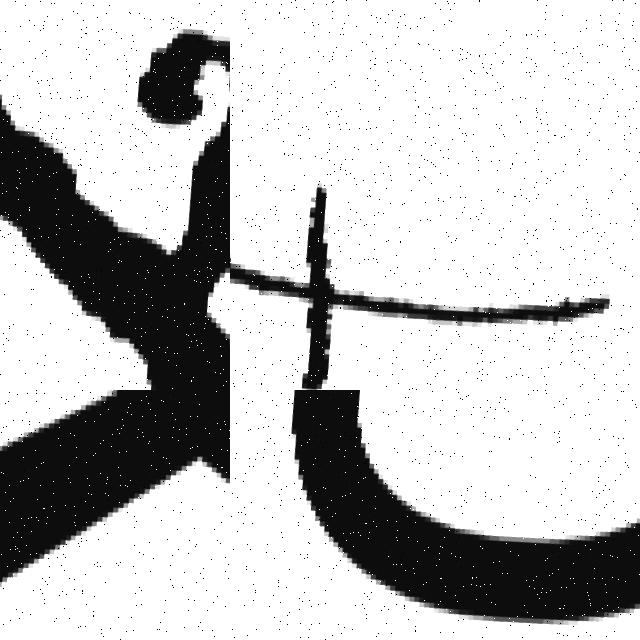F: (230, 194, 607, 390)
O: (284, 390, 640, 634)
X: (0, 390, 230, 640)
Z: (0, 0, 230, 390)
